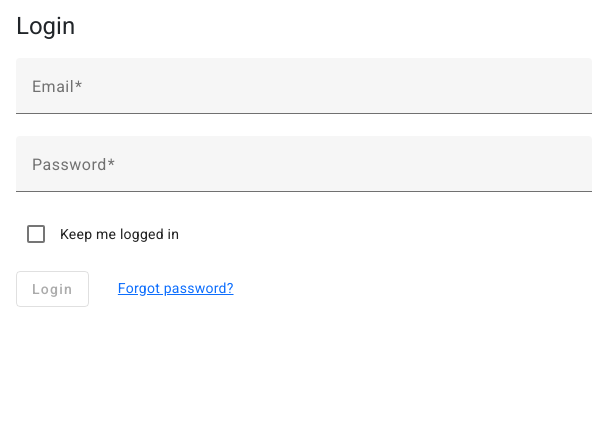
Test: LoginComponent › handles service ERROR notification › shows error alert banner
Expected: the button "MatButtonHarness" is disabled, 16,271 -> 89,307
Type "testuser@test.com" into the field with id "username" at {"x": 304, "y": 94}, box 32,82 -> 576,106
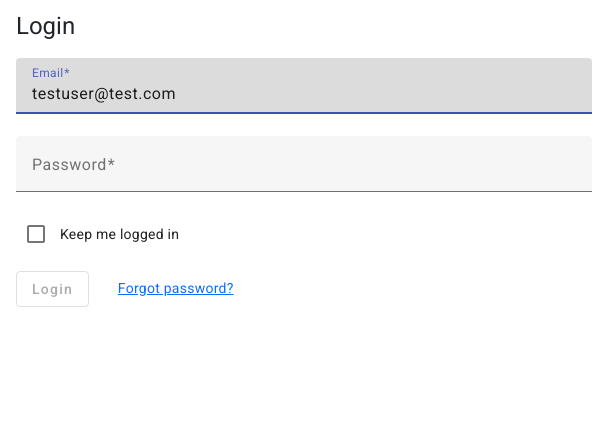
Expected: the button "MatButtonHarness" is disabled, 16,271 -> 89,307
Type "mkeof&Tgh1p" into the password field at {"x": 304, "y": 172}, box 32,160 -> 576,184
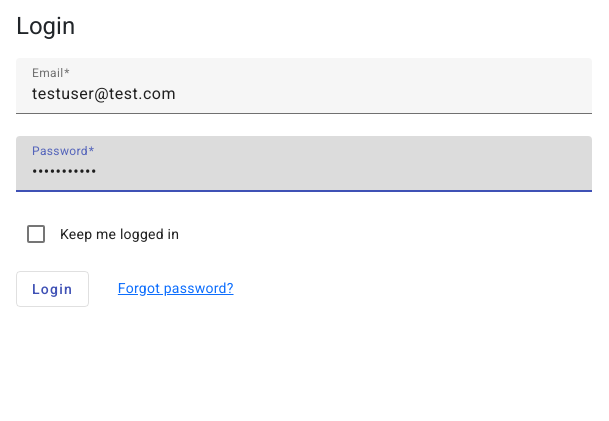
Expected: the button "MatButtonHarness" is enabled
Click the button "MatButtonHarness" at {"x": 53, "y": 289}, box 16,271 -> 89,307
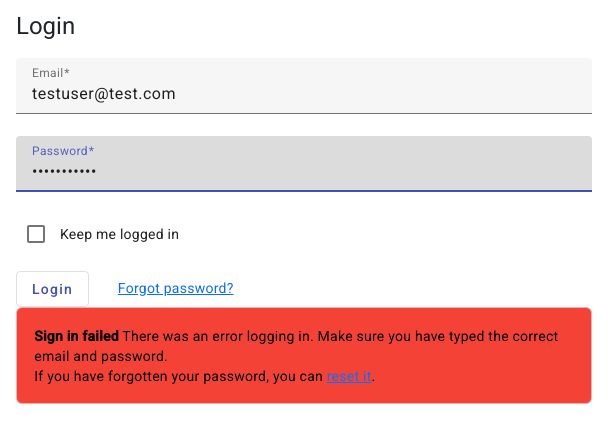
Expected: the element with test id "error" shows "Sign in failed There was an error logging in. Make sure you have typed the correct email and password. If you have forgotten your password, you can reset it.", 16,307 -> 592,404
